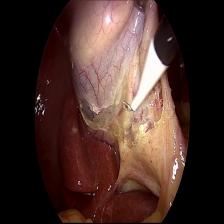Hook: (120, 42, 169, 119)
